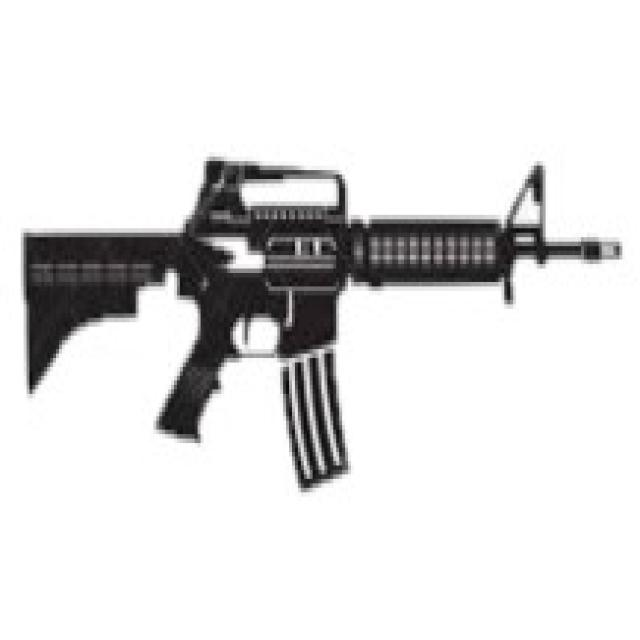rifle: (22, 154, 629, 499)
